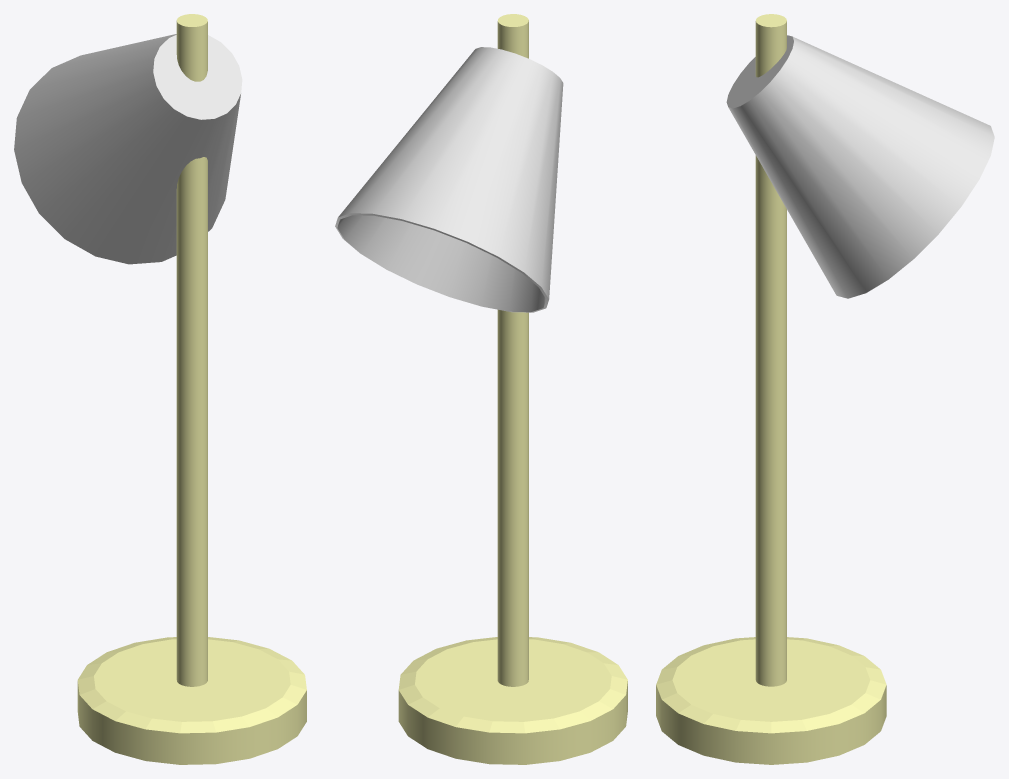
Rendered from Lamp.fbx.
The picture shows the model from 3 angles, left to right: view 1: azimuth 30°, elevation 25°; view 2: azimuth 150°, elevation 25°; view 3: azimuth 270°, elevation 25°; orthographic projection.
Visible parts, largest first — view 1: pCylinder20, pCylinder18, pCylinder19; view 2: pCylinder20, pCylinder18, pCylinder19; view 3: pCylinder20, pCylinder18, pCylinder19.
Part boxes in pixels (box(x1,y1,x2,y2)): pCylinder20: box(14, 34, 242, 264); pCylinder18: box(77, 637, 306, 764); pCylinder19: box(176, 14, 207, 686); pCylinder20: box(335, 47, 563, 312); pCylinder18: box(398, 637, 627, 764); pCylinder19: box(497, 14, 528, 686); pCylinder20: box(726, 35, 994, 298); pCylinder18: box(656, 637, 886, 764); pCylinder19: box(755, 14, 786, 686).
Size of the model in its own units: 2.35 by 7.87 by 3.45.
